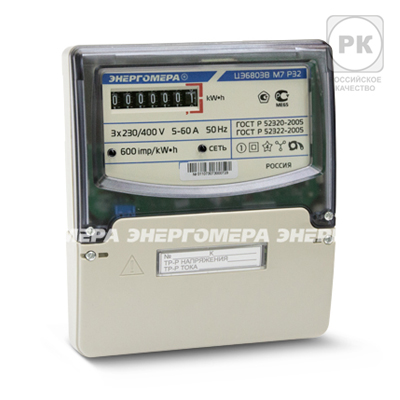counter: (62, 39, 340, 358)
counter_screen: (107, 86, 201, 109)
